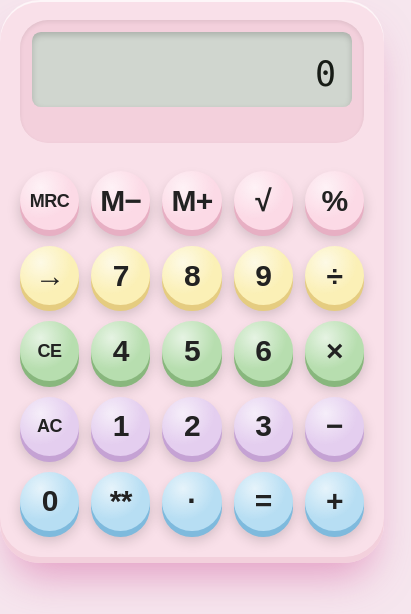
Test: <Calculator /> › clears the display
The image size is (411, 614).
Click the button "9". click: click(263, 276)
box: [234, 246, 293, 305]
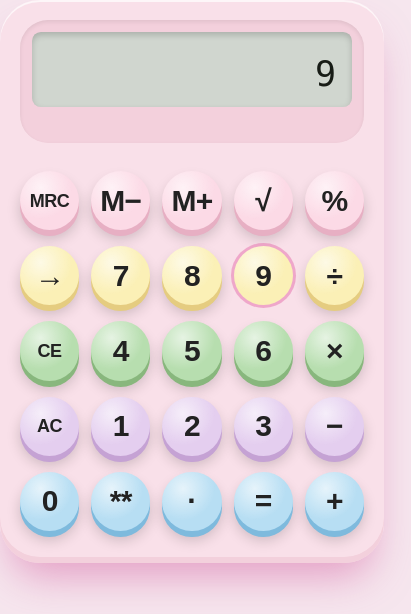
Click the button with aria-label "All clear". click: click(50, 426)
box: [20, 397, 79, 456]
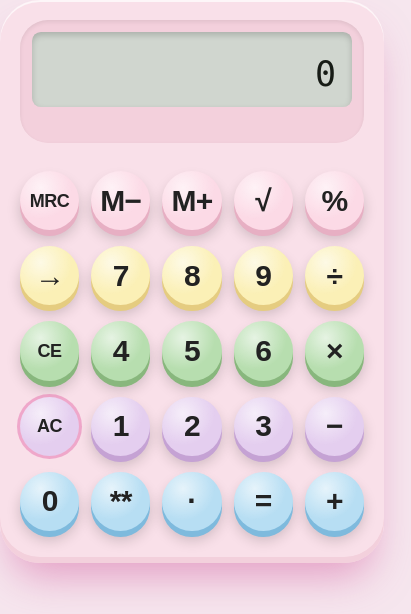
Check: the text named "Display" reads "0", box [315, 53, 336, 94]
